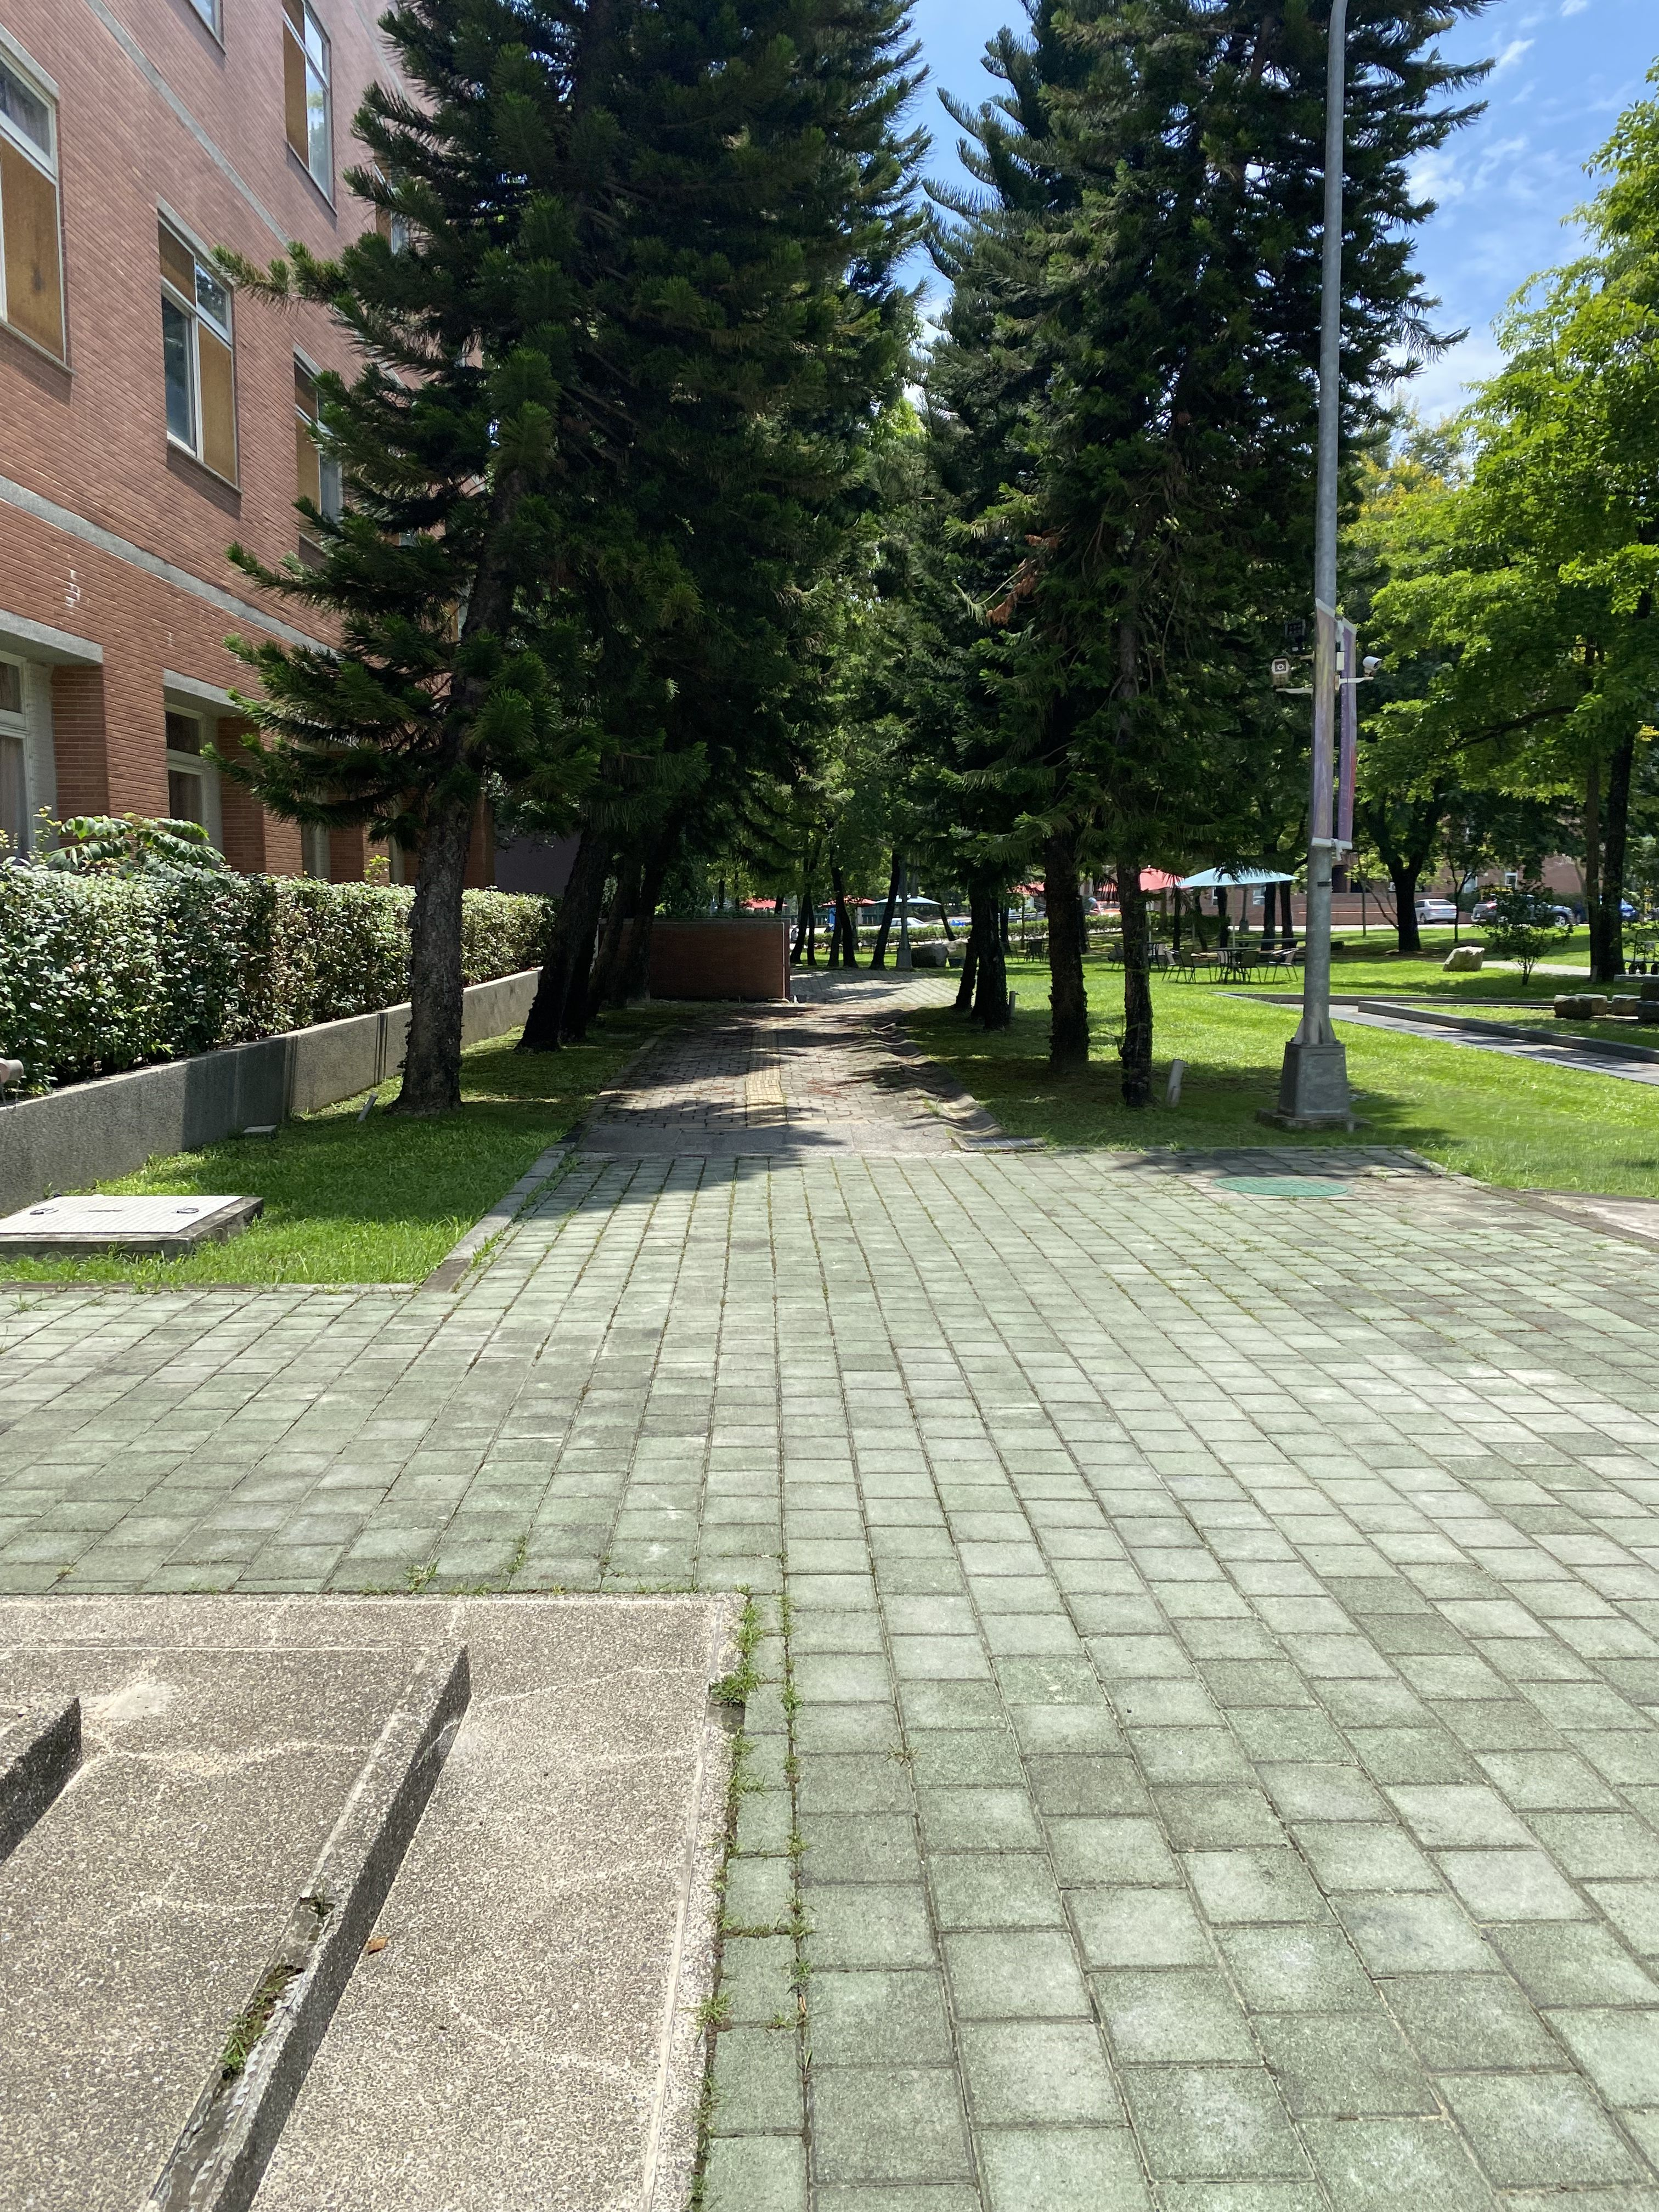sidewalk: (458, 867, 1659, 2212)
